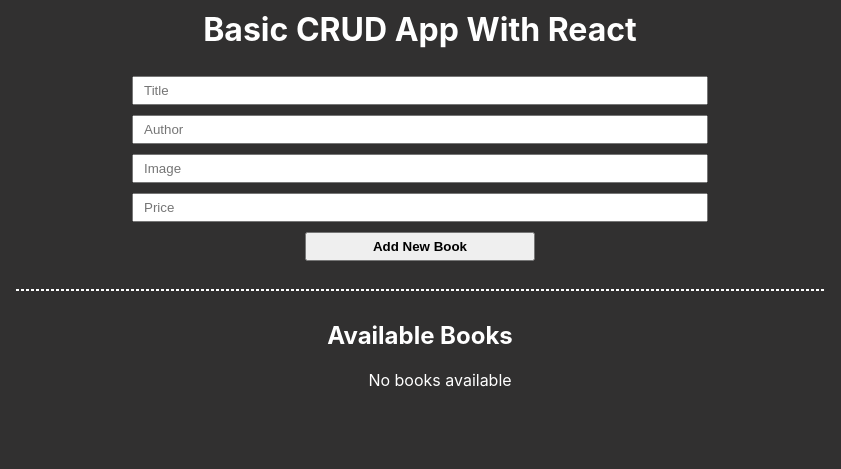
Test case: addBook() › should add new book
Type "Game Of Thrones" into the field with test id "title-input".
click(420, 91); type("Game Of Thrones")  # box [132, 76, 708, 105]
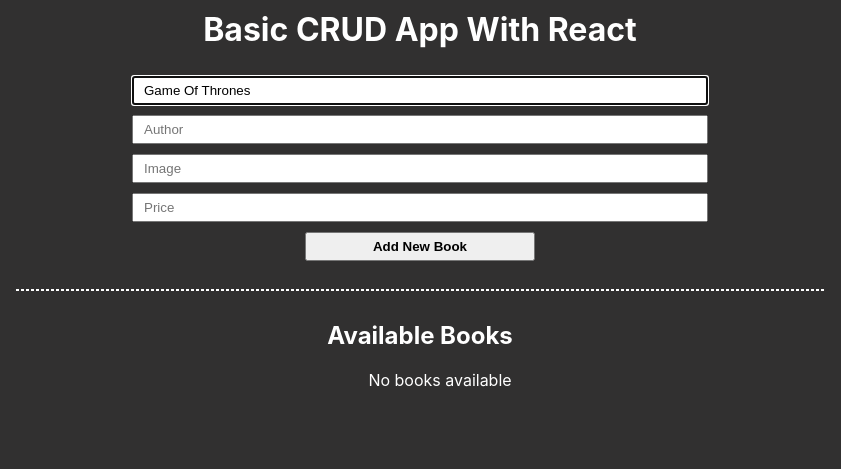
Type "Ned Stark" into the field with test id "author-input".
click(420, 130); type("Ned Stark")  # box [132, 115, 708, 144]
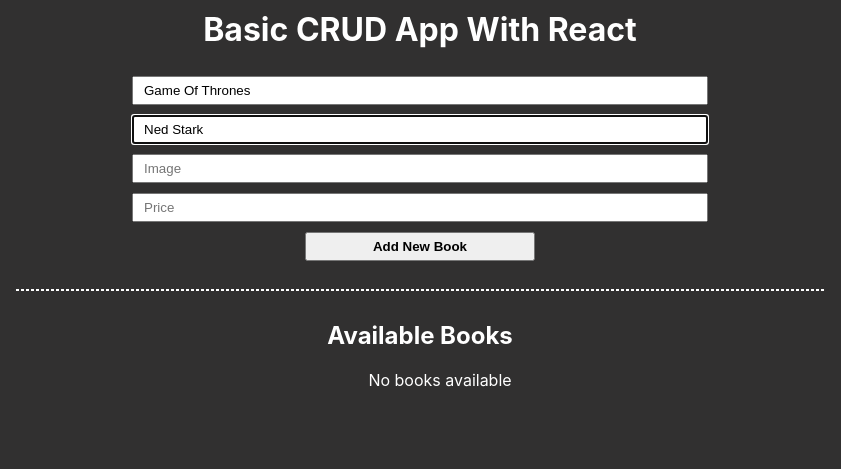
Type "https://static.hbo.com/game-of-thrones-1-1920x1080.jpg" into the field with test id "image-input".
click(420, 169); type("https://static.hbo.com/game-of-thrones-1-1920x1080.jpg")  # box [132, 154, 708, 183]
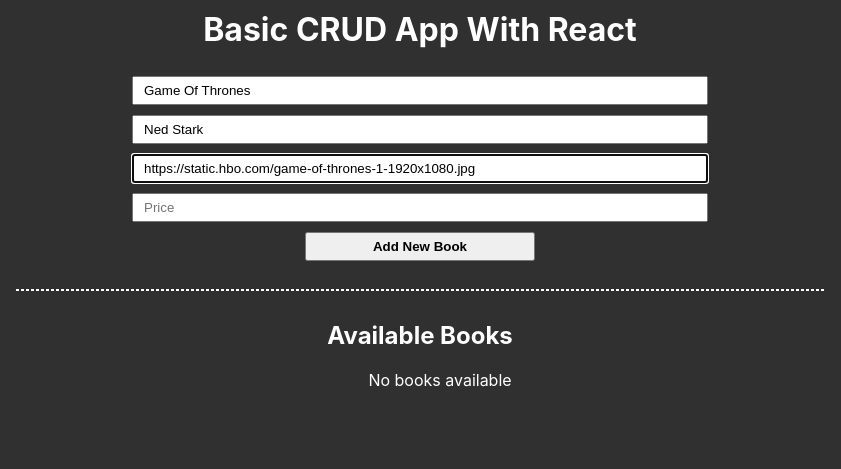
Type "100" into the number field with test id "price-input".
click(420, 208); type("100")  # box [132, 193, 708, 222]
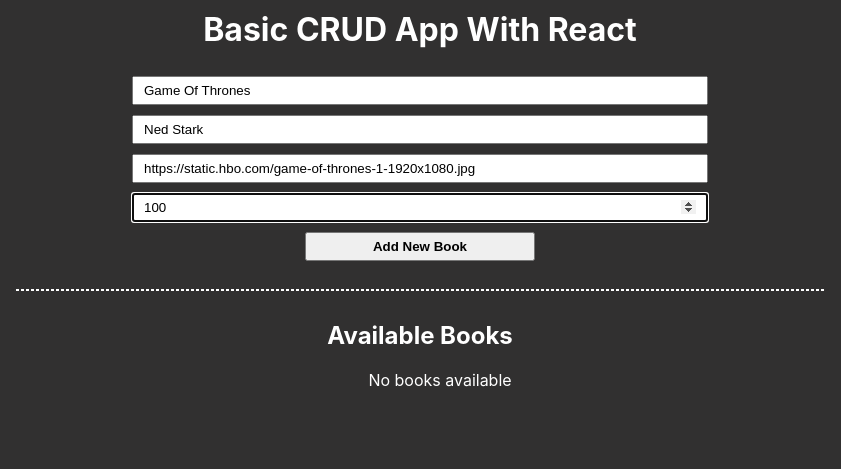
Click the button with test id "submit-btn".
click(420, 247)  # box [305, 232, 535, 261]
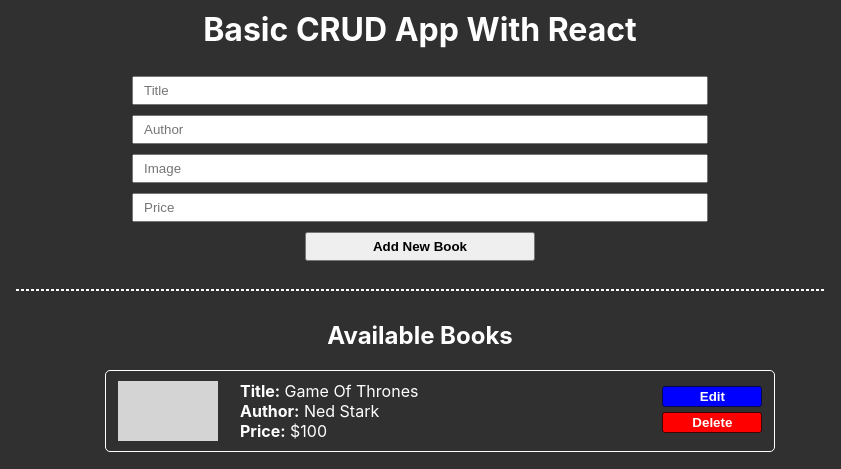
Result: the number of list items is 1 at [105, 370, 774, 452]
Result: the list item shows "Game Of Thrones" at [105, 370, 774, 452]
